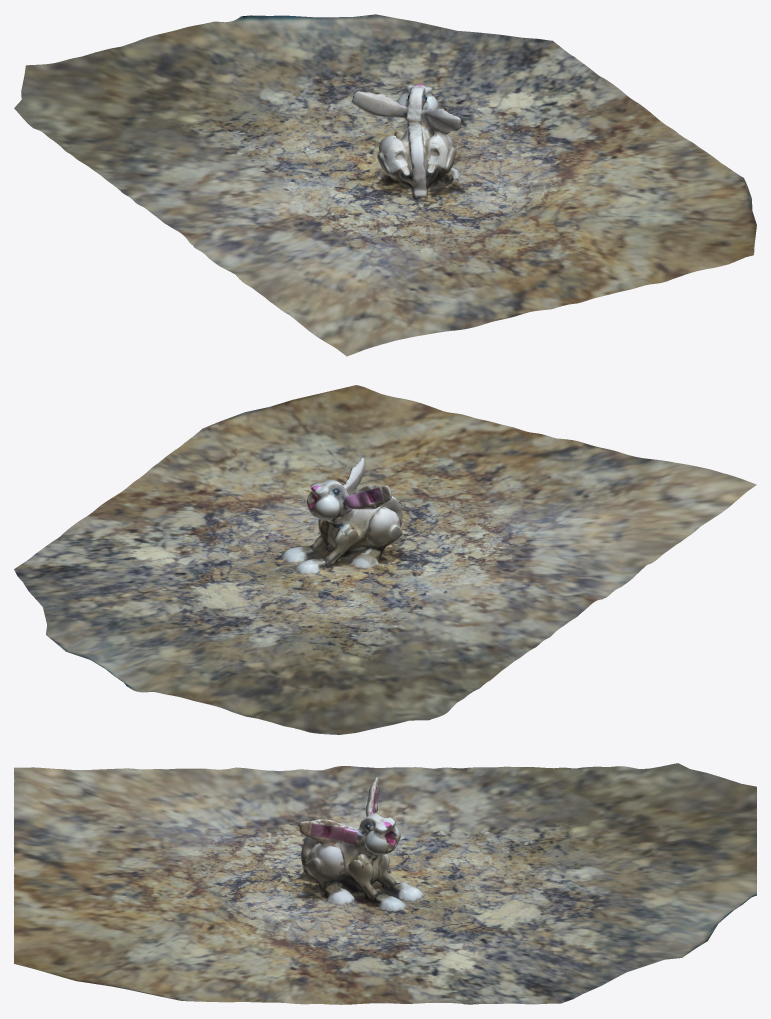
The model's file is ScanBunny.glb.
3 views of the same model, one above another, from view 1: azimuth 30°, elevation 25°; view 2: azimuth 150°, elevation 25°; view 3: azimuth 270°, elevation 25° (orthographic).
Visible parts, largest first — view 1: 3DModel; view 2: 3DModel; view 3: 3DModel.
Boxes of the visible parts, x1,y1,x2,y2 form: 3DModel: [14, 14, 756, 356]; 3DModel: [14, 385, 756, 734]; 3DModel: [14, 763, 756, 1004].
Size of the model in its own units: 2.23 by 0.3981 by 3.
1 material, 1 textured.
